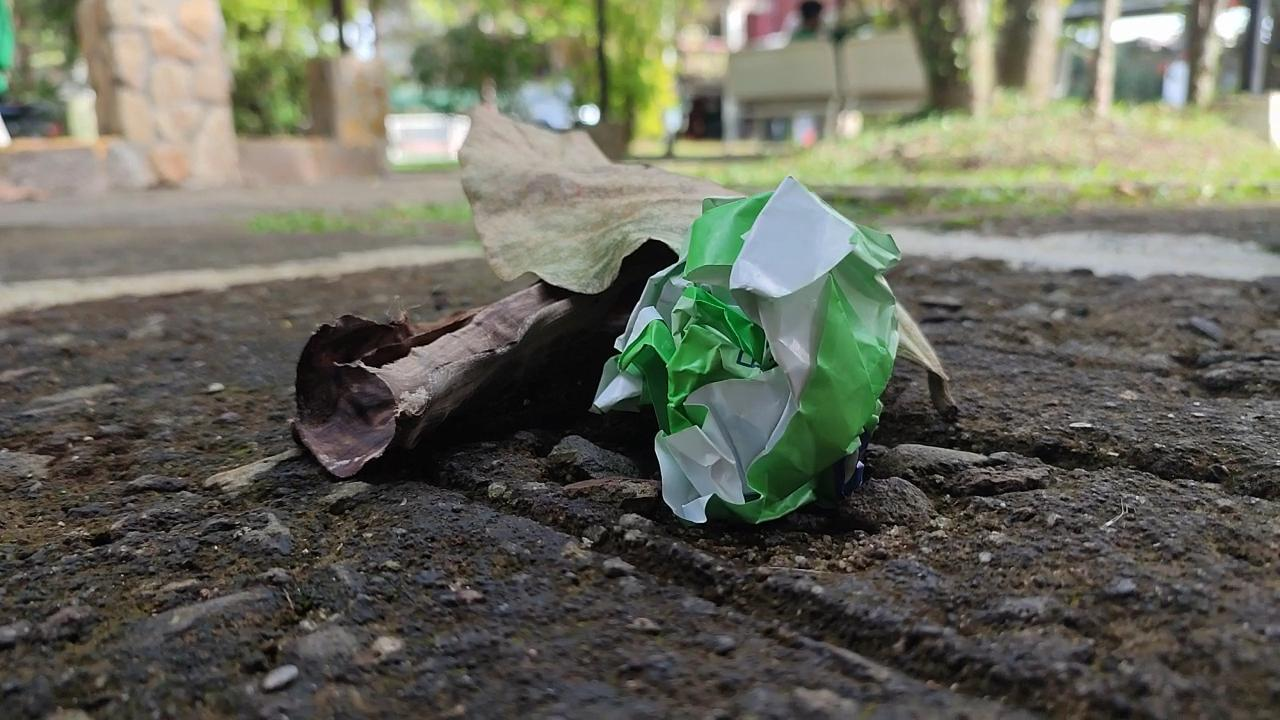Paper: (581, 149, 905, 533)
